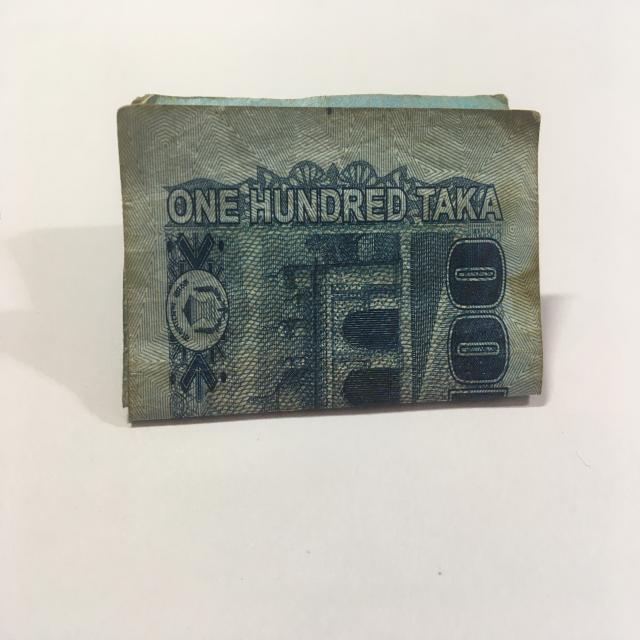Taka: (105, 85, 552, 421)
